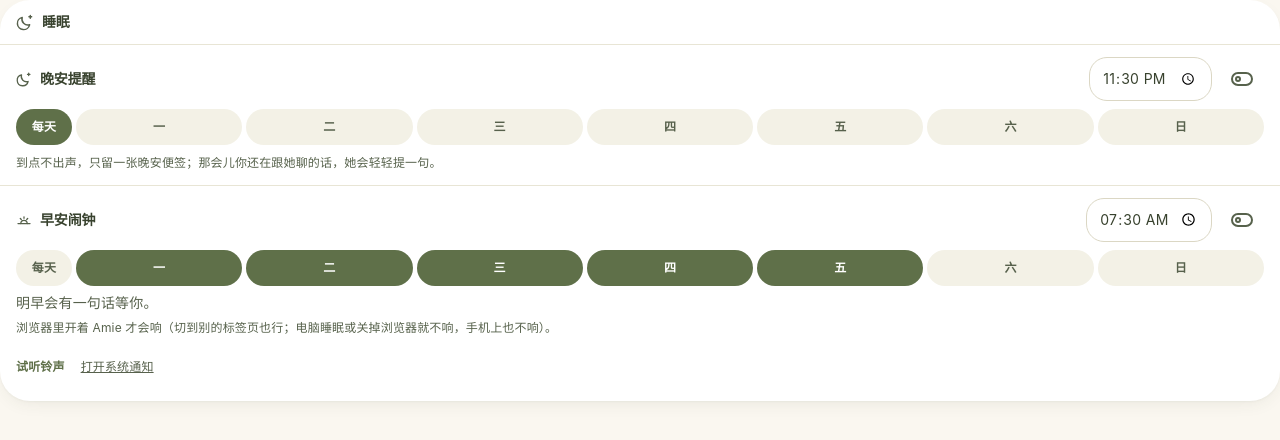
睡眠卡 › 打开早安闹钟：顺便问一次系统通知，再保存；之后显示通知已开
Click the switch named "早安闹钟".
click(1242, 220)  # box [1220,198,1264,242]
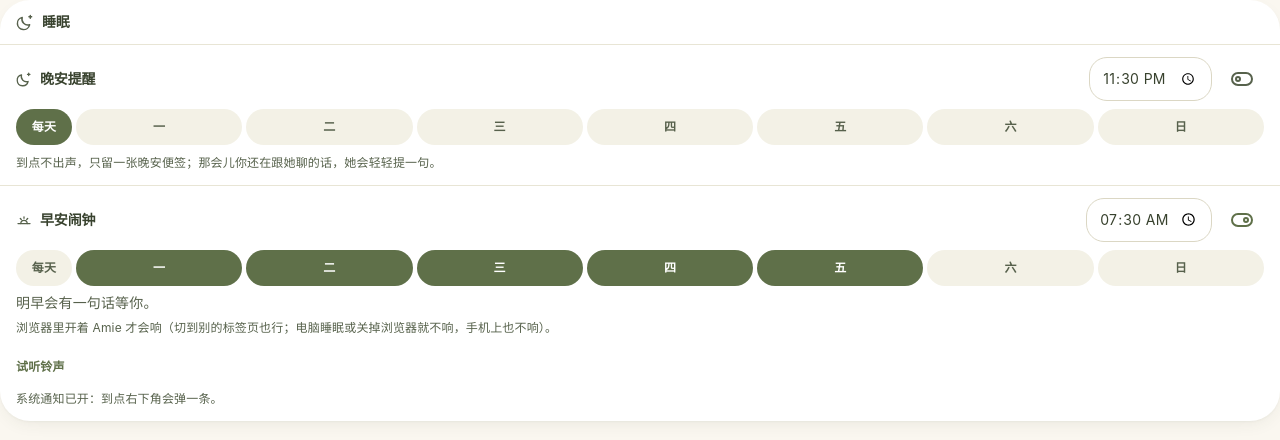
Expected: the text "系统通知已开：到点右下角会弹一条。" is shown, [16,391,223,406]
